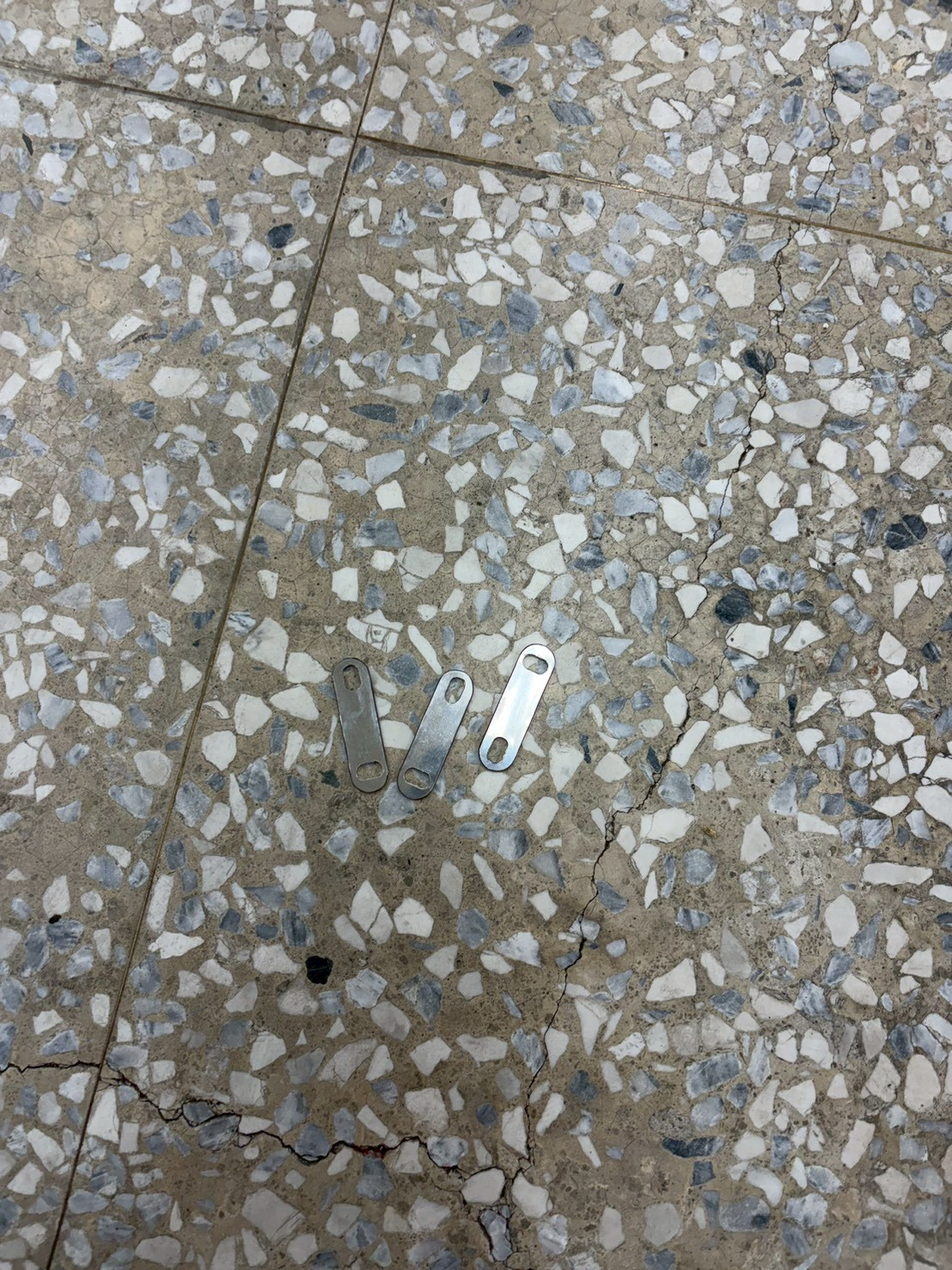Fe: (444, 658, 490, 802), (521, 636, 567, 775), (325, 662, 371, 801)
